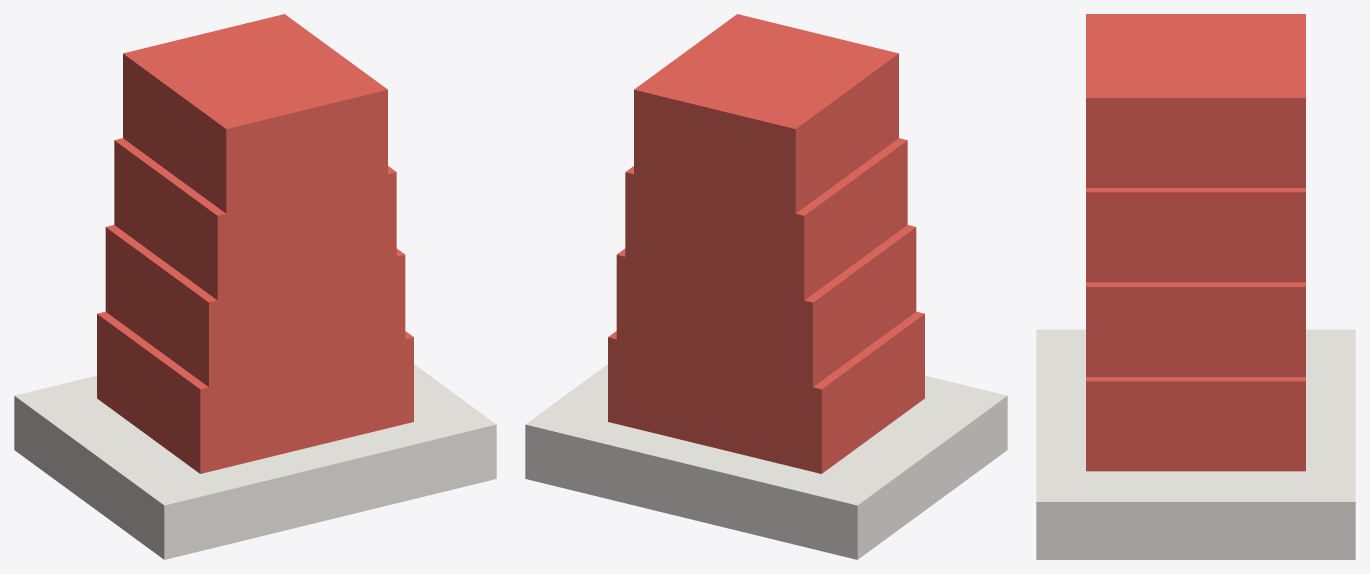
The model's file is training_corner-lv4.glb.
The picture shows the model from 3 angles, left to right: view 1: azimuth 30°, elevation 25°; view 2: azimuth 150°, elevation 25°; view 3: azimuth 270°, elevation 25°; orthographic projection. The views are drawn at different scales.
Parts seen in each view (by area): view 1: Base, Level4, Level1, Level2, Level3; view 2: Base, Level4, Level1, Level2, Level3; view 3: Base, Level4, Level1, Level2, Level3.
Boxes of the visible parts, box(x1,y1,x2,y2) form: Base: box(14, 364, 496, 559); Level4: box(123, 14, 387, 213); Level1: box(97, 311, 413, 473); Level2: box(105, 225, 405, 387); Level3: box(114, 138, 396, 300); Base: box(525, 364, 1007, 559); Level4: box(634, 14, 898, 213); Level1: box(608, 311, 924, 473); Level2: box(616, 225, 916, 387); Level3: box(625, 138, 907, 300); Base: box(1036, 329, 1355, 559); Level4: box(1086, 14, 1305, 187); Level1: box(1086, 377, 1305, 471); Level2: box(1086, 282, 1305, 376); Level3: box(1086, 188, 1305, 282).
Size of the model in its own units: 1.15 by 1.3 by 0.9.
